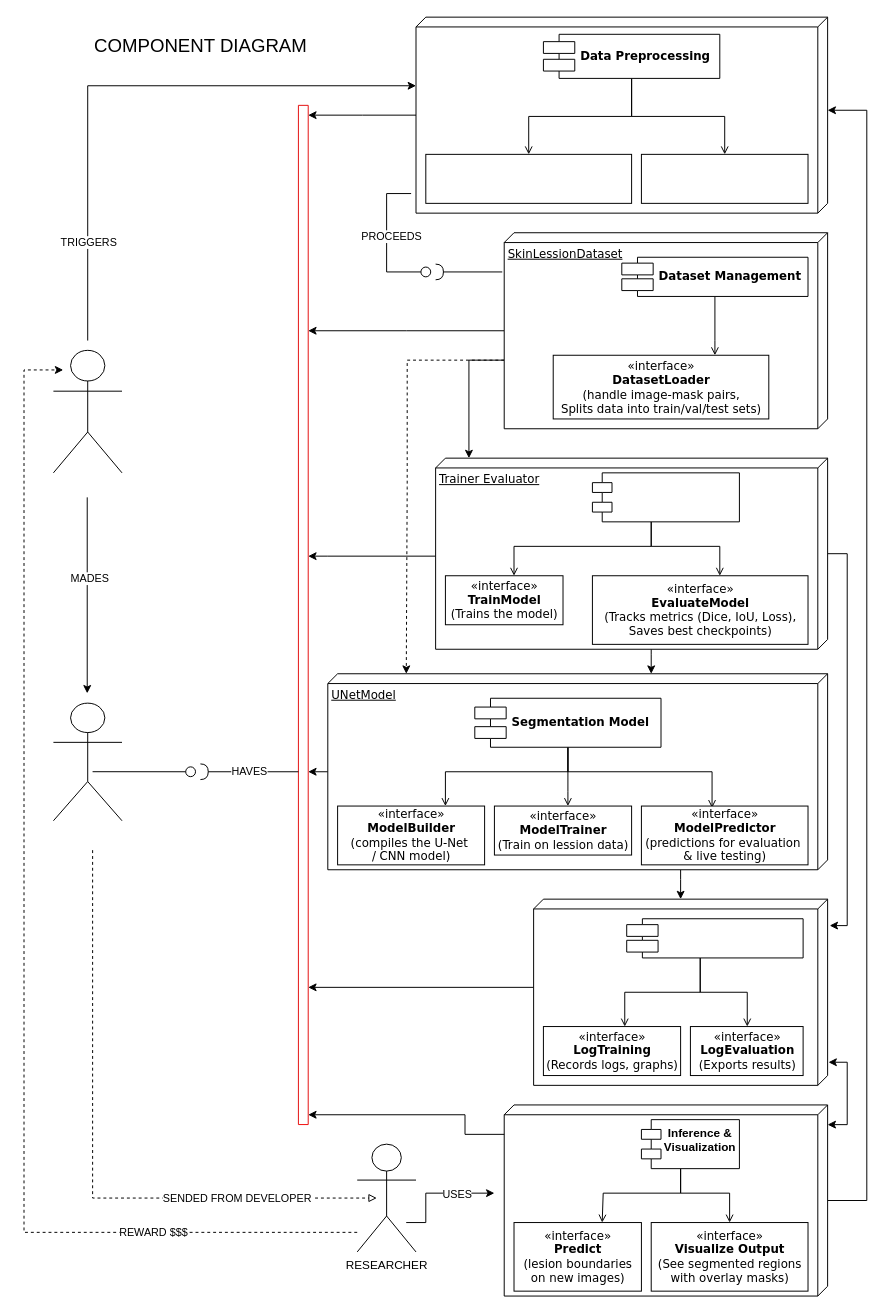
Image size: 892x1313. Some labels were removed from this diagram. Each missing label, with the box of its shape:
DataCleaner: (415, 16, 828, 213)
DEVELOPER: (52, 349, 122, 473)
Lesion Segmentor: (503, 1104, 828, 1296)
Logging & Reporting: (626, 918, 803, 958)
MetricsLogger: (533, 898, 828, 1085)
SYSTEM: (52, 702, 122, 821)
Training & Evaluation: (591, 472, 739, 522)
«interface» DataAugmentor (resize, normalize, augmentation): (425, 153, 632, 203)
«interface» DataLoader (Loads images and masks): (640, 153, 808, 203)
